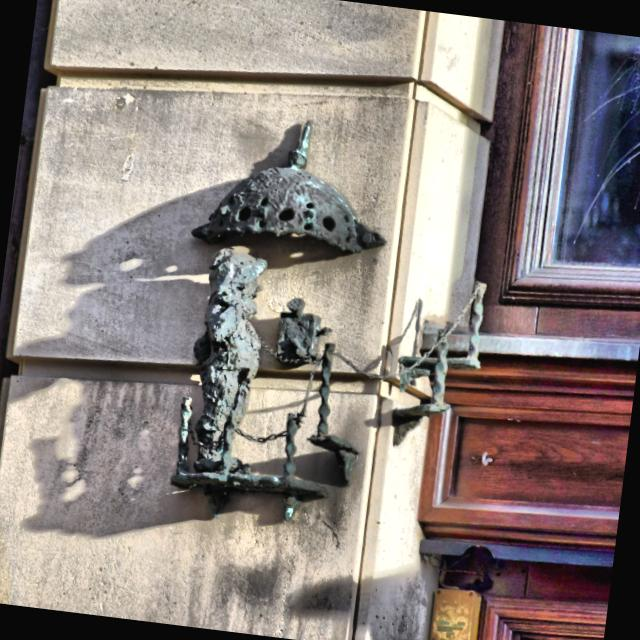Dryndek: (171, 122, 383, 519)
